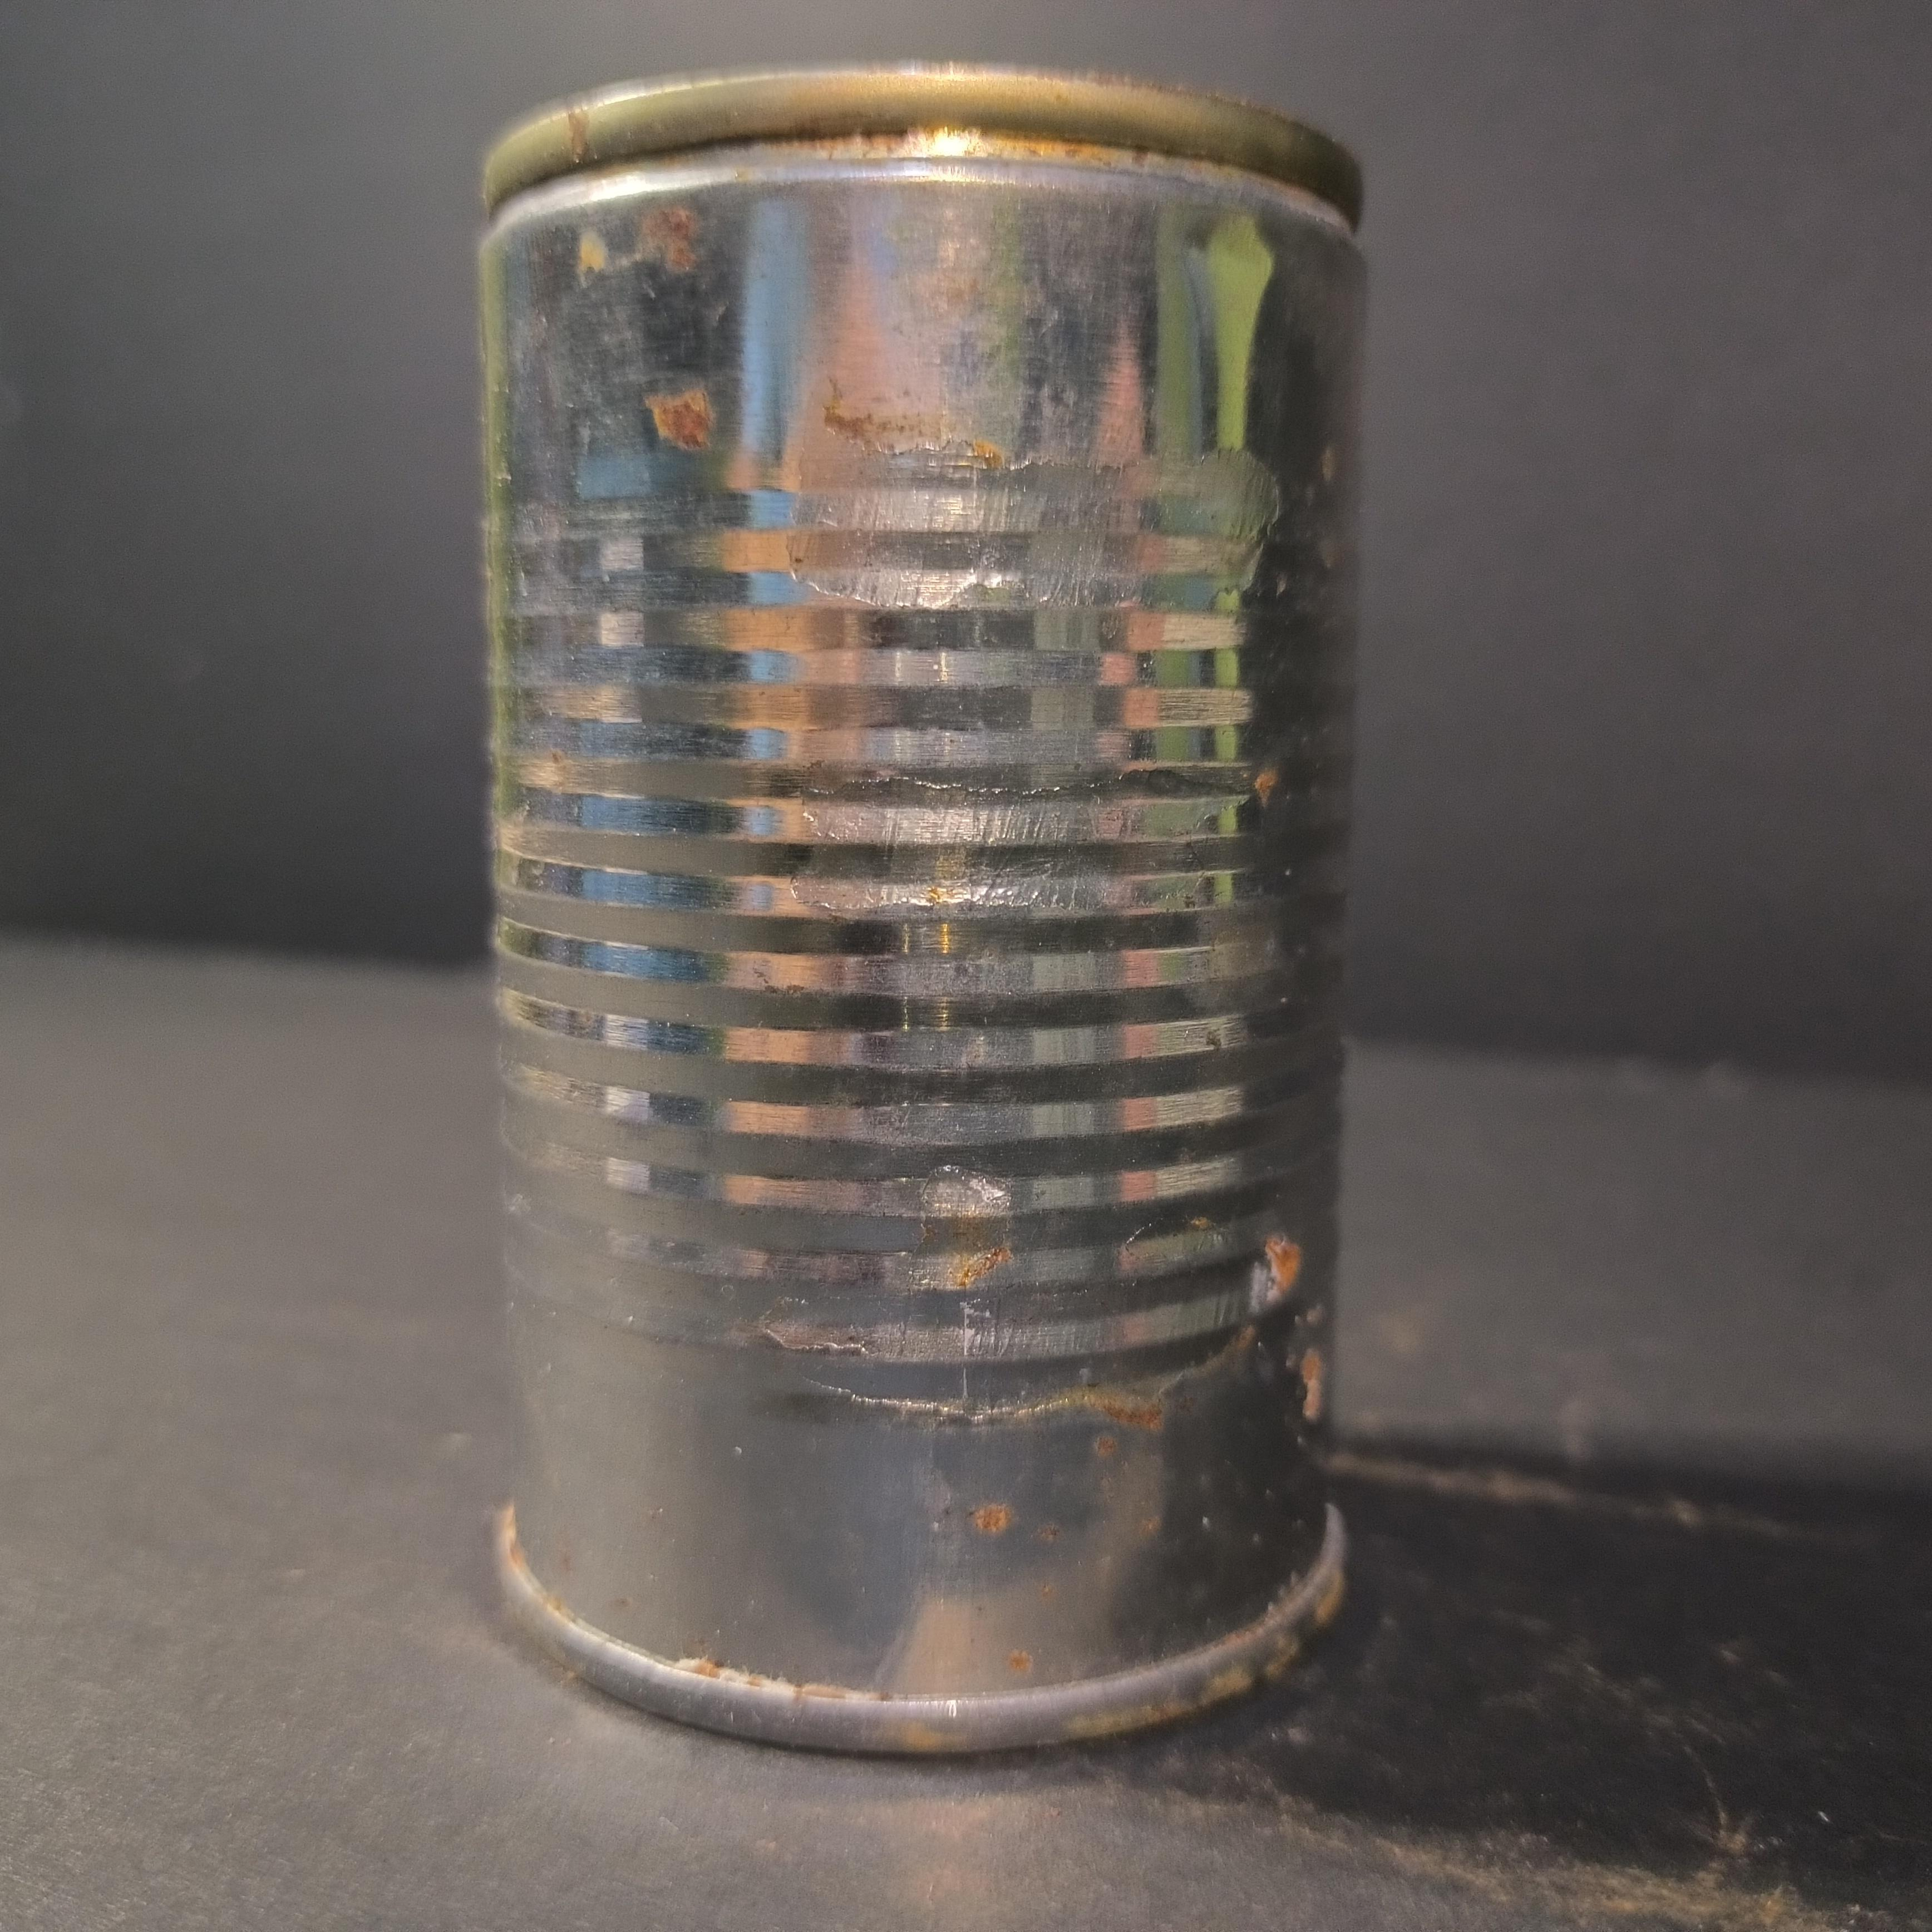Rusted: (471, 48, 1396, 1755)
